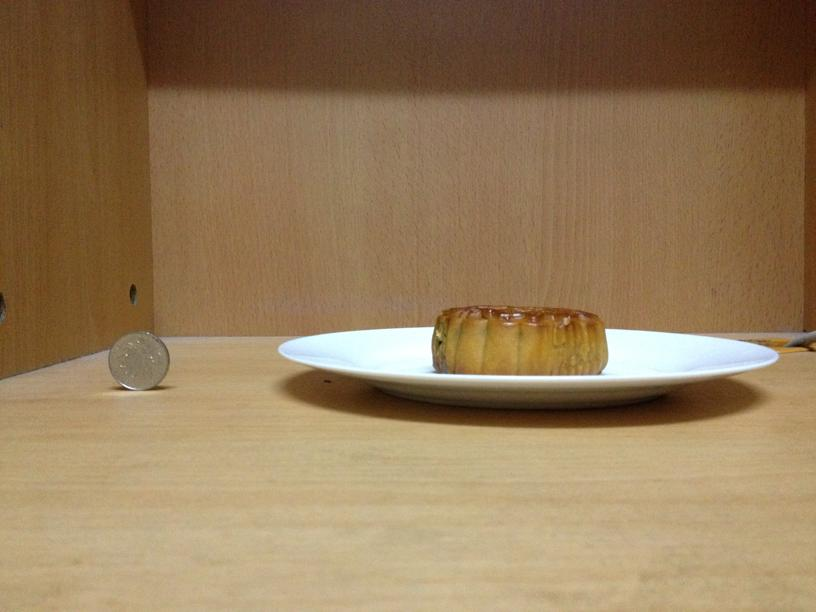coin: (109, 330, 170, 392)
mooncake: (433, 305, 607, 375)
